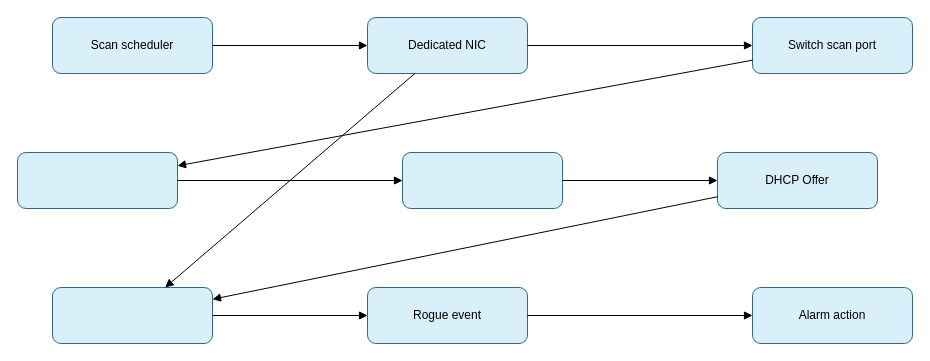
Image size: 930x361. Some labels were removed from this diagram. Each missing label, with the centre of its shape:
Authorized group: point 132,315
VLAN 10: point 97,180
VLAN 20: point 482,180
